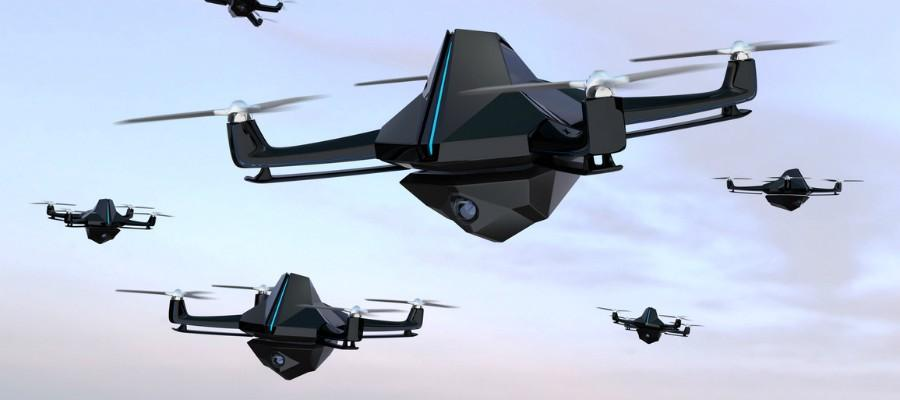drone: (124, 35, 821, 244), (126, 264, 463, 396), (30, 185, 172, 261), (718, 154, 866, 221), (598, 295, 702, 351), (193, 1, 286, 36)
